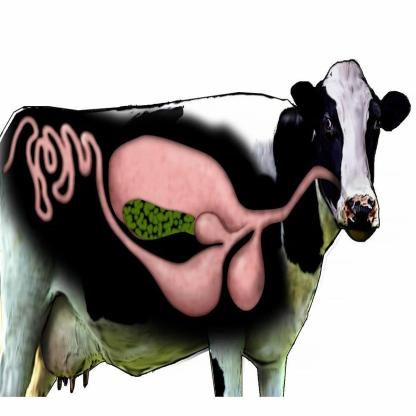cow: (291, 60, 410, 242)
